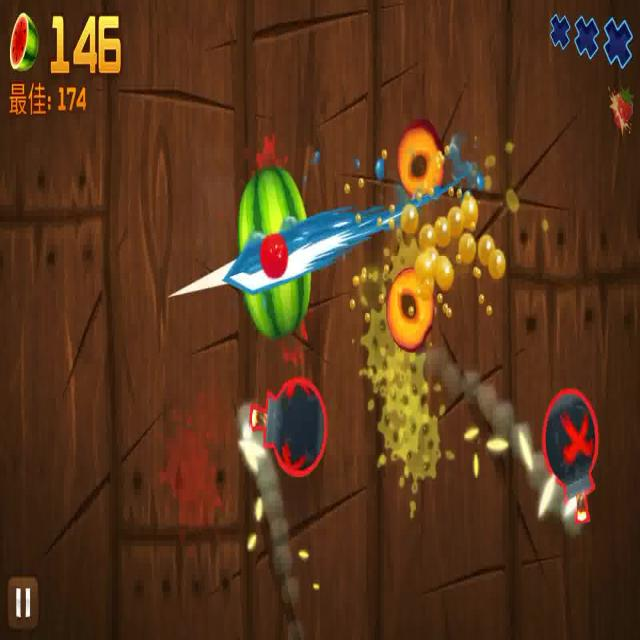bomb: (234, 369, 333, 494), (540, 390, 613, 530)
fruit: (224, 154, 325, 342), (381, 266, 439, 354), (398, 124, 452, 207)
